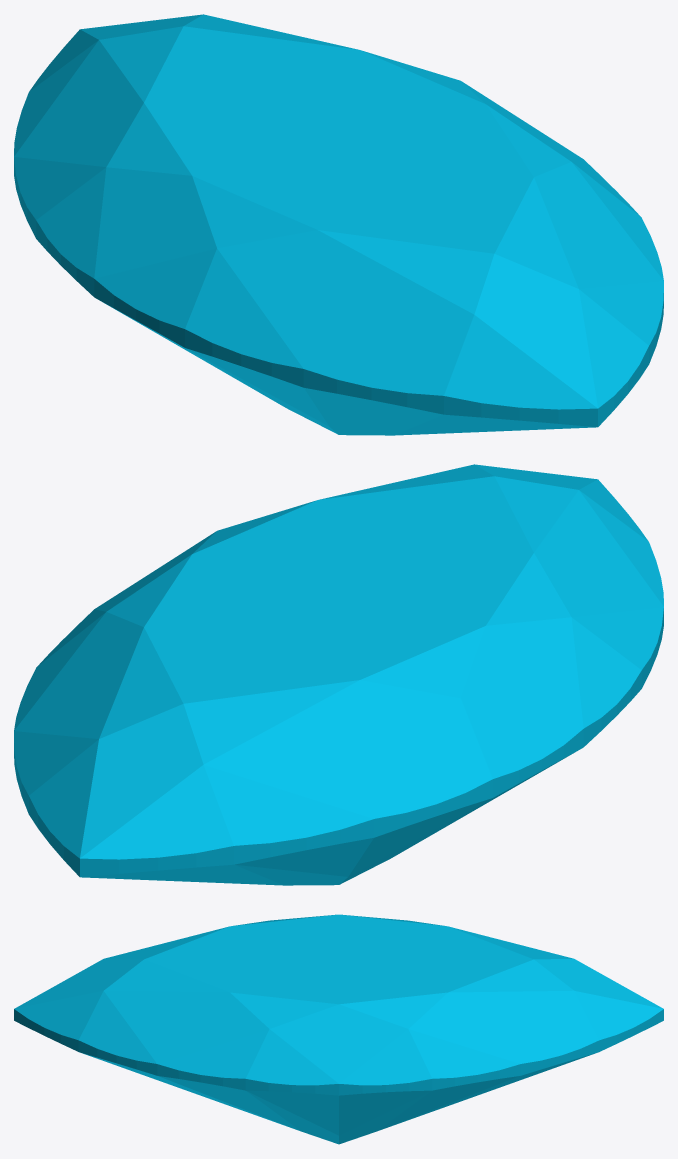
Rendered from Head_Single Halo_Marquise_1.5ct_Diamond.glb.
3 views of the same model, one above another, from view 1: azimuth 30°, elevation 25°; view 2: azimuth 150°, elevation 25°; view 3: azimuth 270°, elevation 25° (orthographic). The views are drawn at different scales.
Bounding box in the file's own units: 0.00597 × 0.00344 × 0.011.
